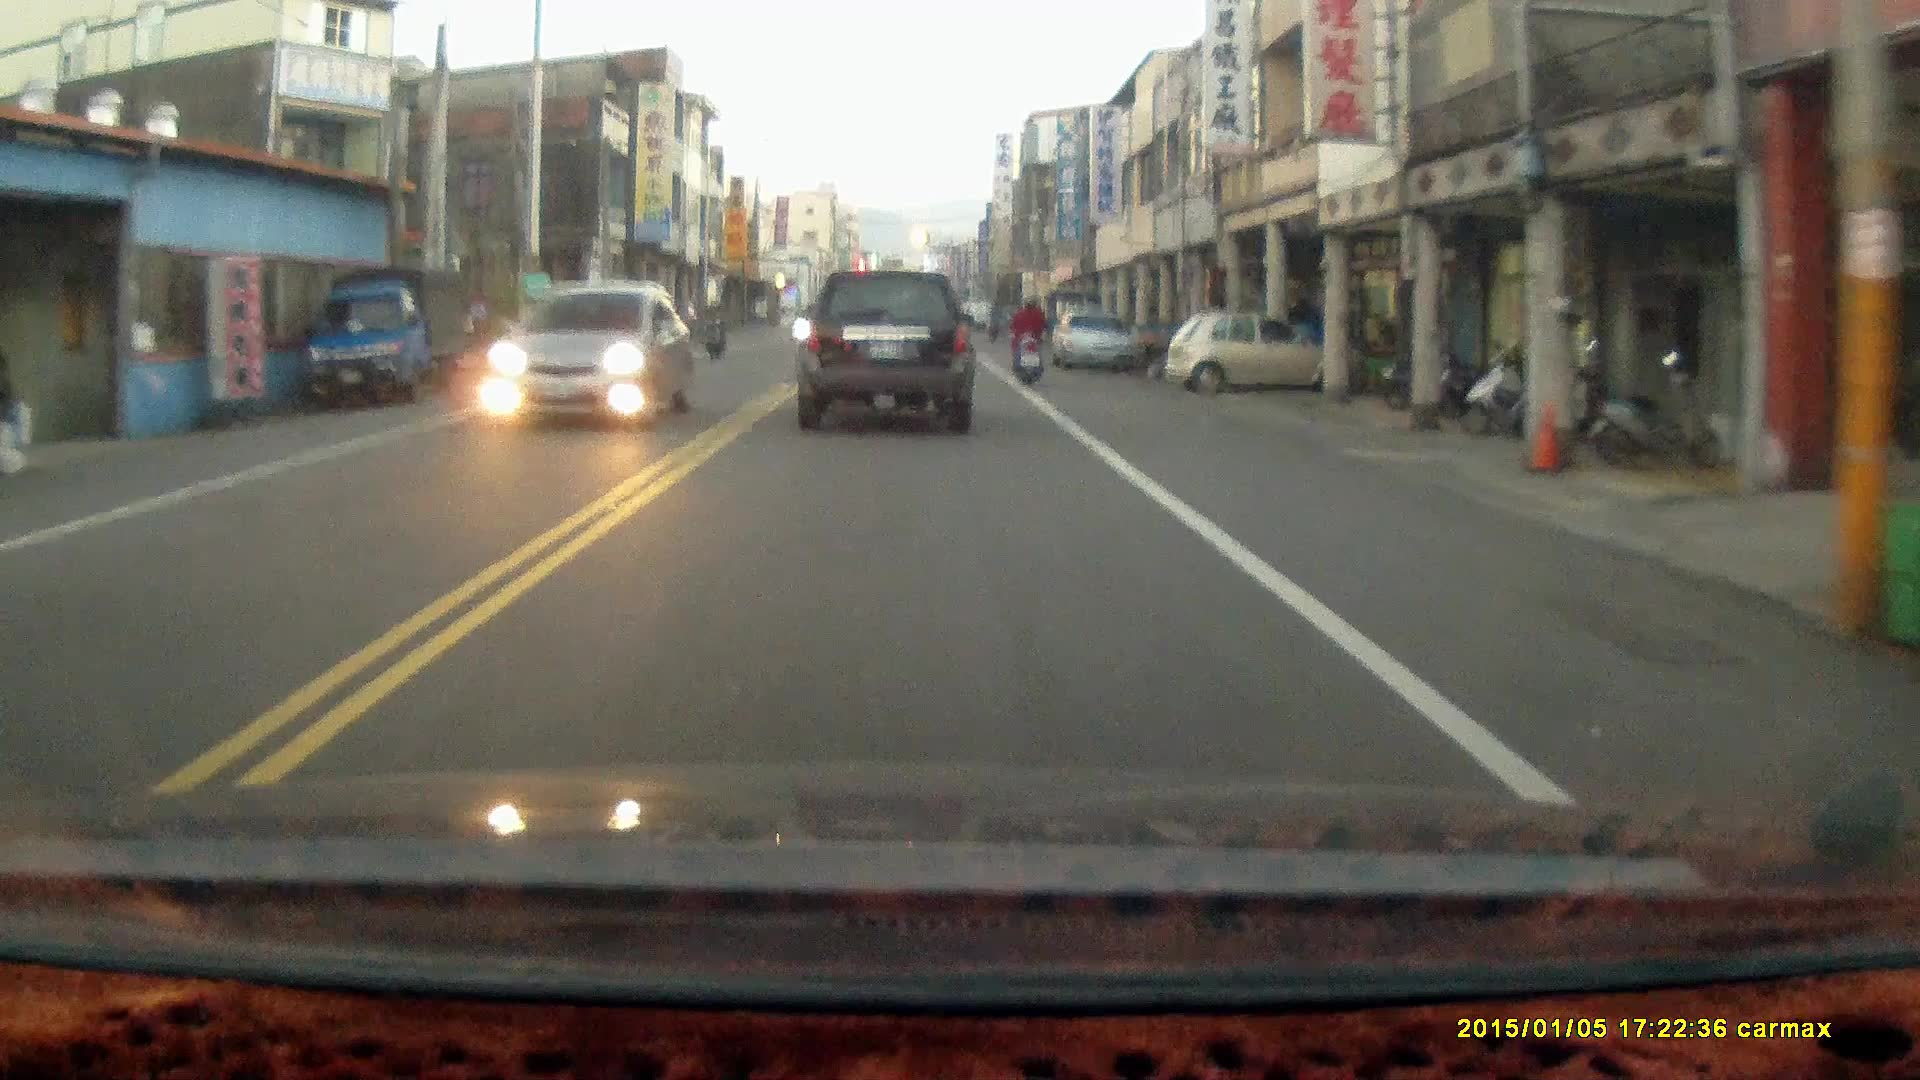rider: (1008, 290, 1046, 386), (699, 297, 731, 362)
vehicle: (794, 266, 976, 439), (490, 281, 695, 429), (297, 261, 469, 410), (1169, 309, 1345, 397), (1052, 313, 1141, 372)
